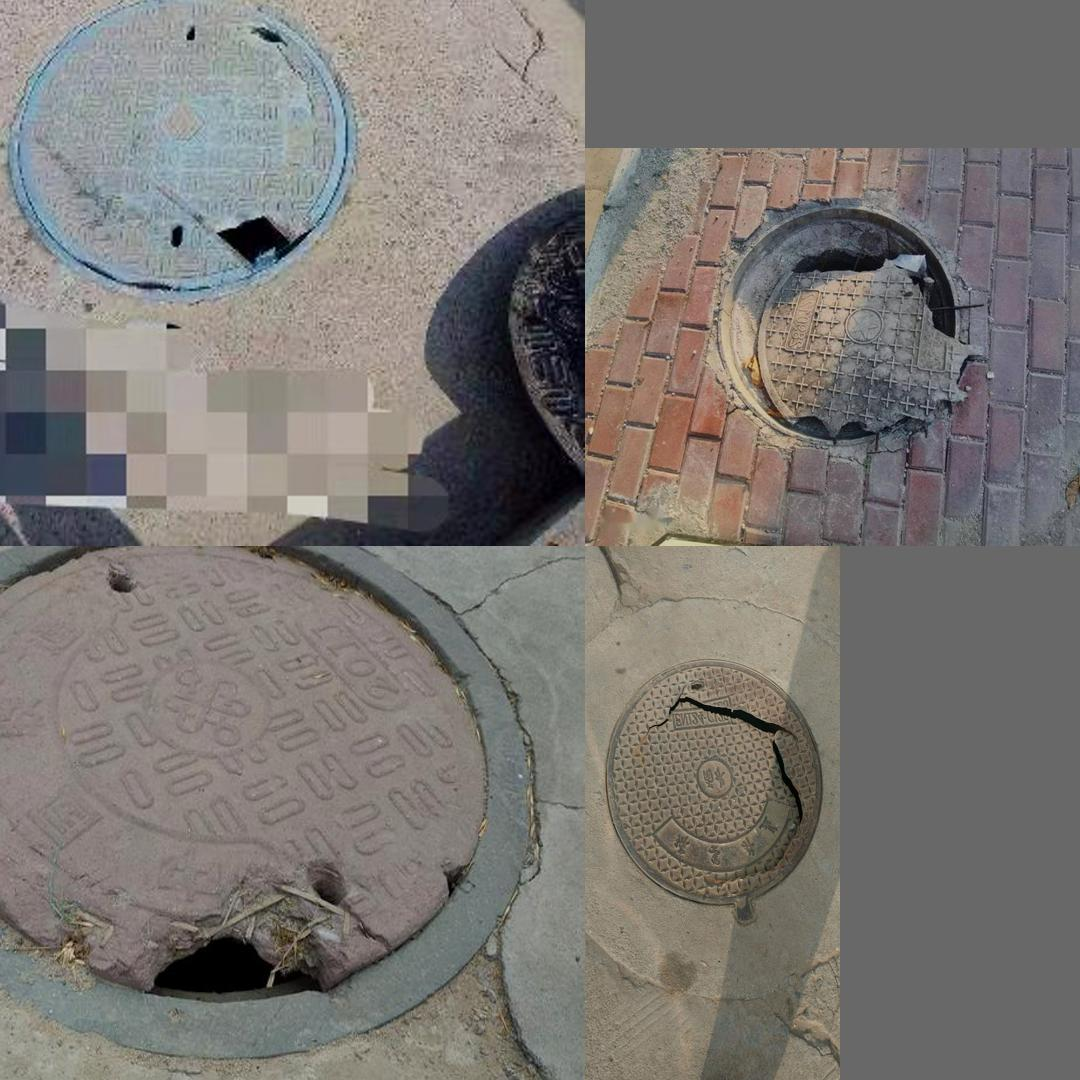broke: (0, 550, 539, 1051), (9, 0, 349, 297), (702, 192, 982, 457), (604, 658, 823, 927)
